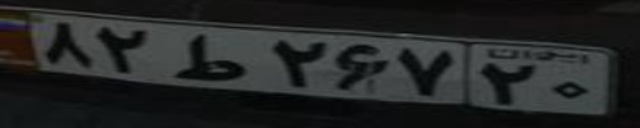0: (547, 80, 591, 100)
2: (90, 25, 150, 74), (270, 38, 327, 88), (477, 61, 539, 105)
6: (330, 43, 388, 90)
7: (395, 46, 455, 96)
8: (40, 20, 93, 68)
taa: (169, 33, 246, 82)
